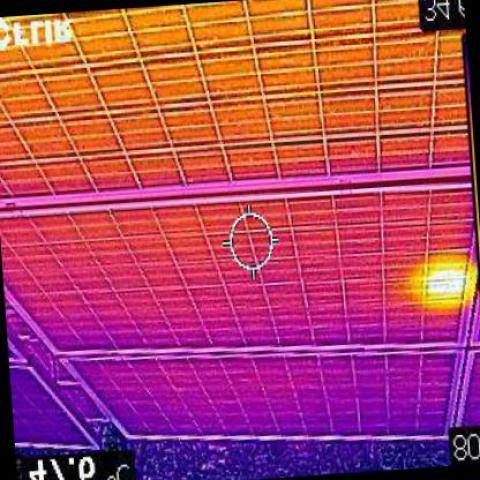fault: (424, 259, 470, 297)
